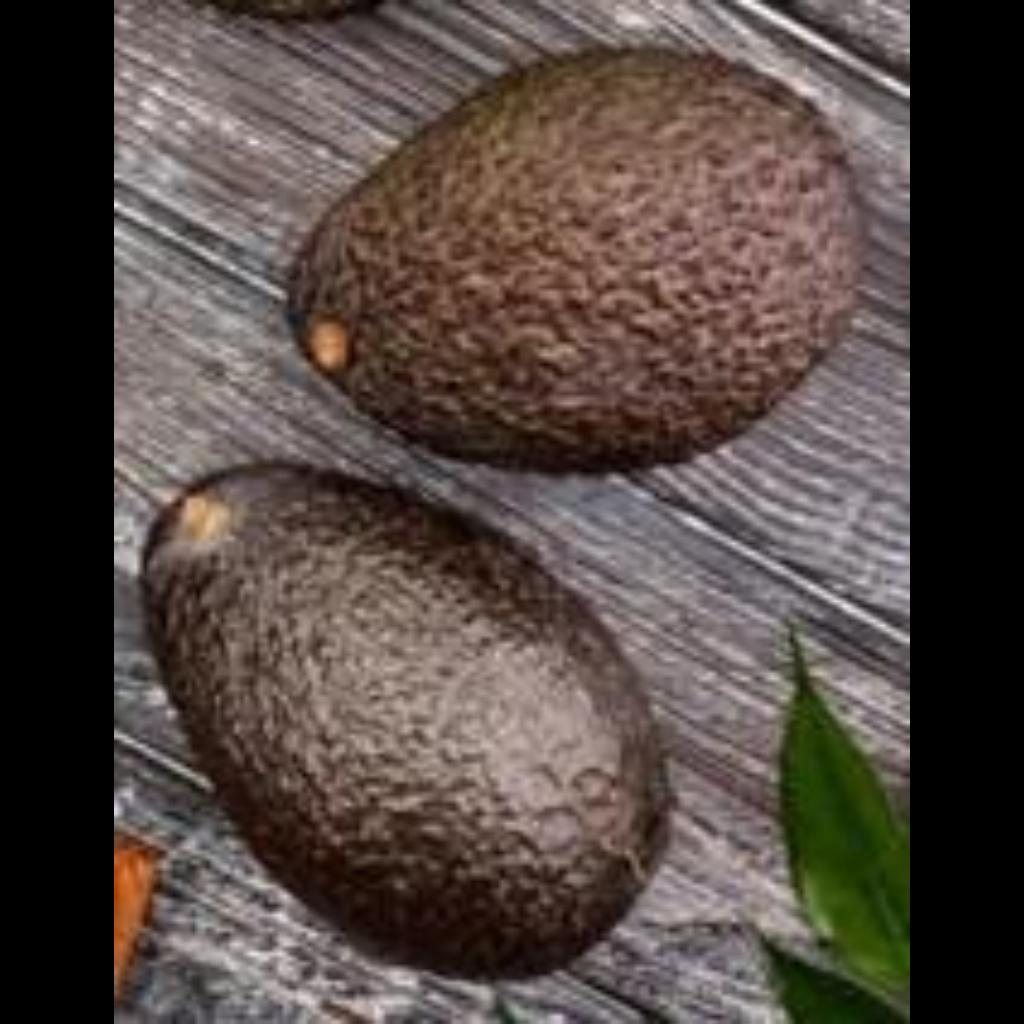antracnosis_fruto: (140, 416, 681, 981), (336, 100, 848, 398)
